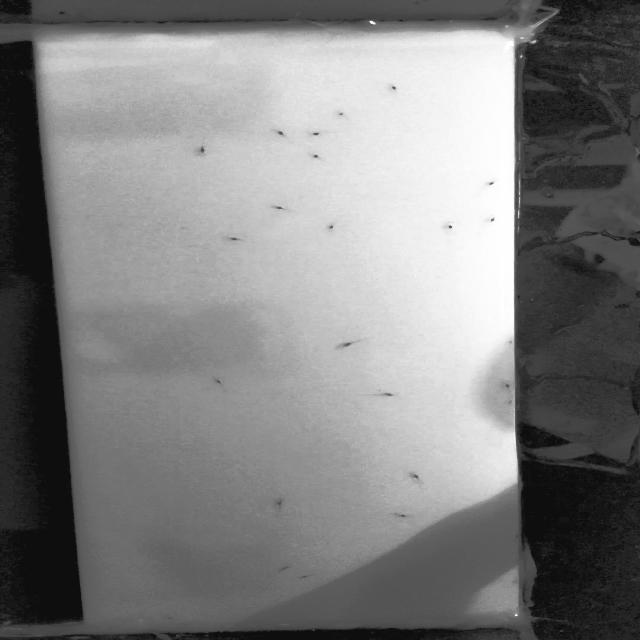shrimp: (268, 125, 290, 144), (327, 108, 352, 121), (390, 509, 411, 524), (409, 471, 433, 484), (371, 391, 399, 402), (272, 494, 294, 508), (209, 375, 234, 387), (488, 380, 513, 392), (335, 338, 358, 349), (195, 143, 216, 155), (383, 83, 403, 95), (220, 234, 245, 243), (277, 563, 297, 574), (324, 222, 342, 234), (485, 212, 502, 224), (296, 572, 316, 582), (308, 150, 326, 161), (442, 222, 461, 232), (488, 179, 502, 192), (162, 614, 179, 623), (307, 127, 320, 138), (273, 203, 287, 213)
